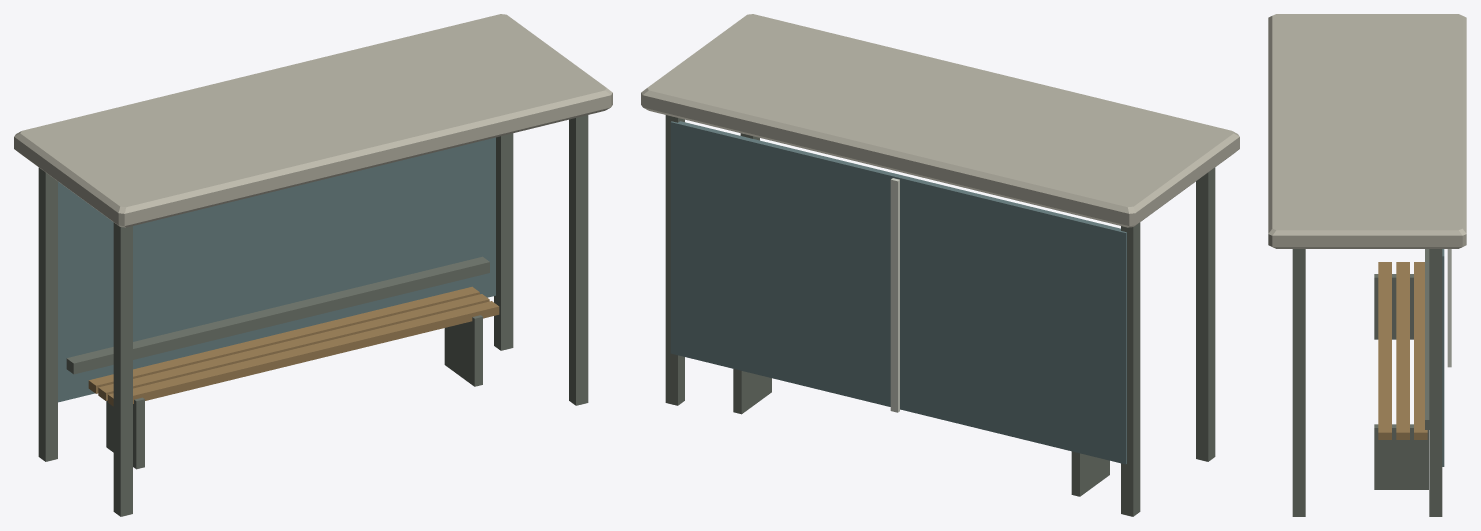
The model's file is shelter.glb.
3 views of the same model, side by side, from view 1: azimuth 30°, elevation 25°; view 2: azimuth 150°, elevation 25°; view 3: azimuth 270°, elevation 25° (orthographic). The views are drawn at different scales.
Parts seen in each view (by area): view 1: bus-shelter; view 2: bus-shelter; view 3: bus-shelter.
Part boxes in pixels (x1,y1,x2,y2): bus-shelter: [14, 14, 612, 516]; bus-shelter: [641, 14, 1239, 516]; bus-shelter: [1268, 14, 1466, 516].
Size of the model in its own units: 3.8 by 2.35 by 1.45.
